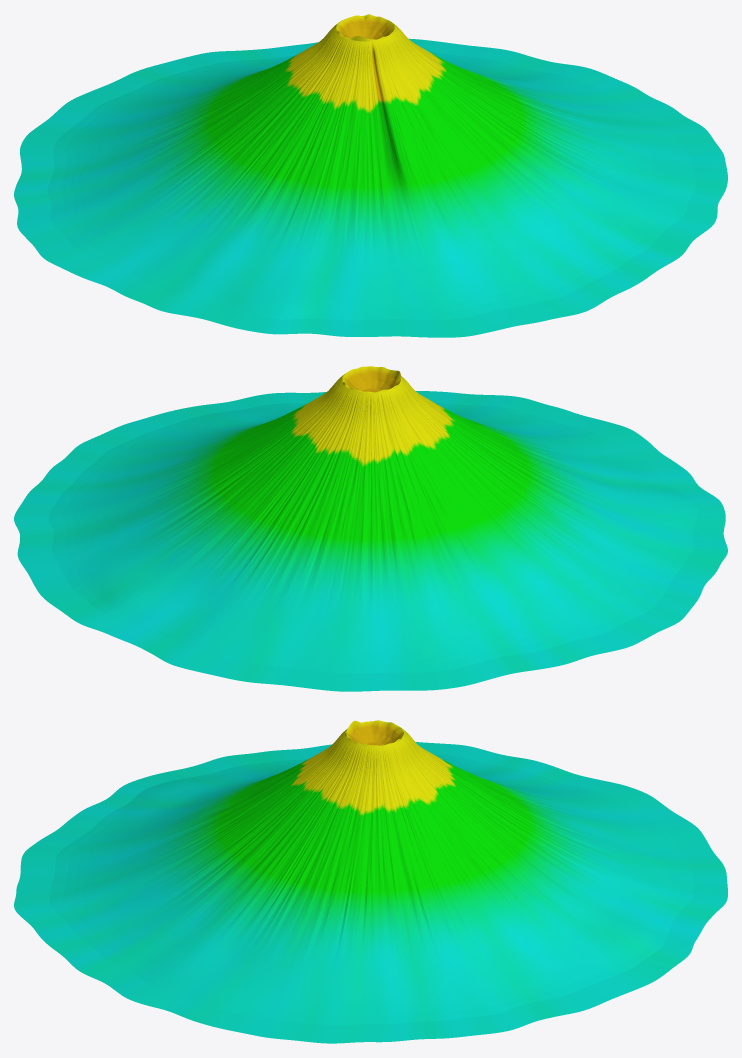
File: fuji.glb
The picture shows the model from 3 angles, top to bottom: view 1: azimuth 30°, elevation 25°; view 2: azimuth 150°, elevation 25°; view 3: azimuth 270°, elevation 25°; orthographic projection.
Parts seen in each view (by area): view 1: Fuji; view 2: Fuji; view 3: Fuji.
Part boxes in pixels (<box>): Fuji: <box>14,14,727,337</box>; Fuji: <box>14,366,727,691</box>; Fuji: <box>14,720,727,1043</box>.
Bounding box in the file's own units: 510 × 127 × 507.
